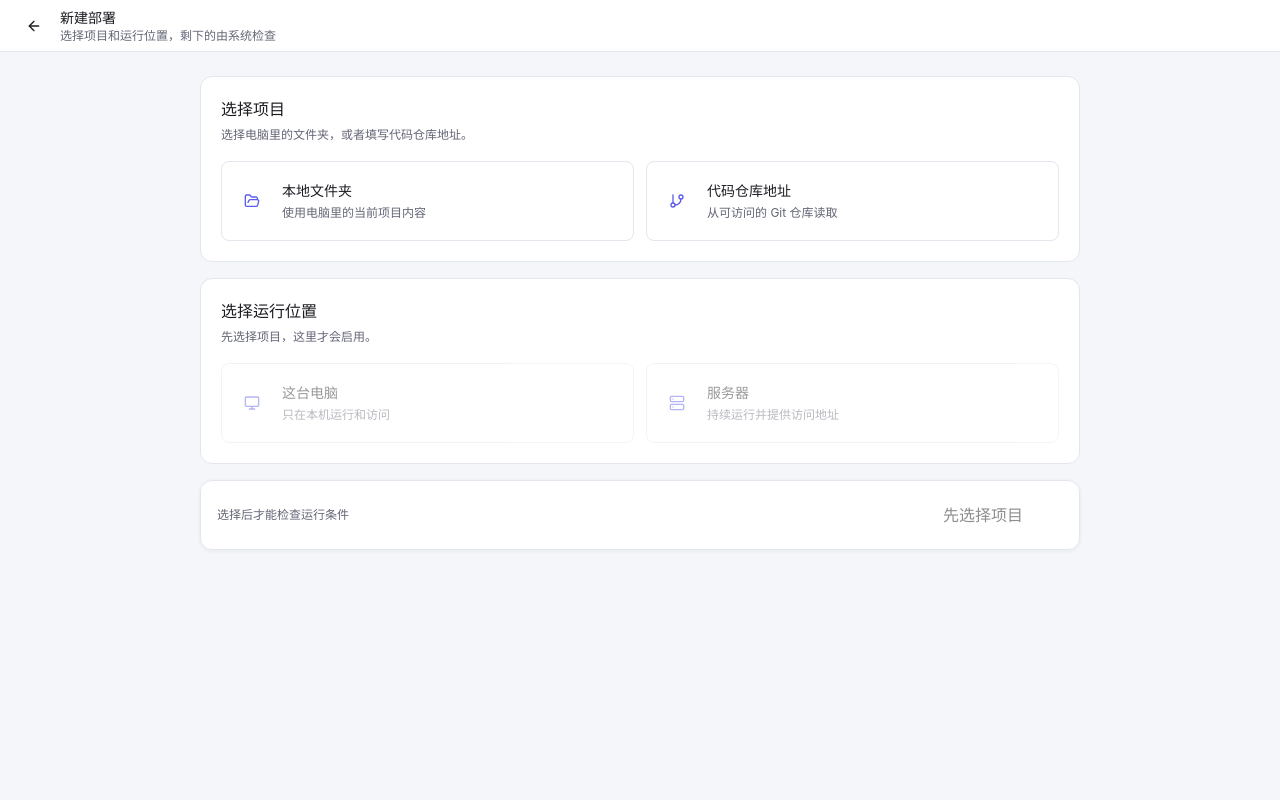
Scenario: DeploymentEditorController › 后端尚未实现的仓库来源如实失败，不伪装为已解析
Step 1. Click the button "代码仓库地址 从可访问的 Git 仓库读取" → (677, 201), box [646,161,1059,241]
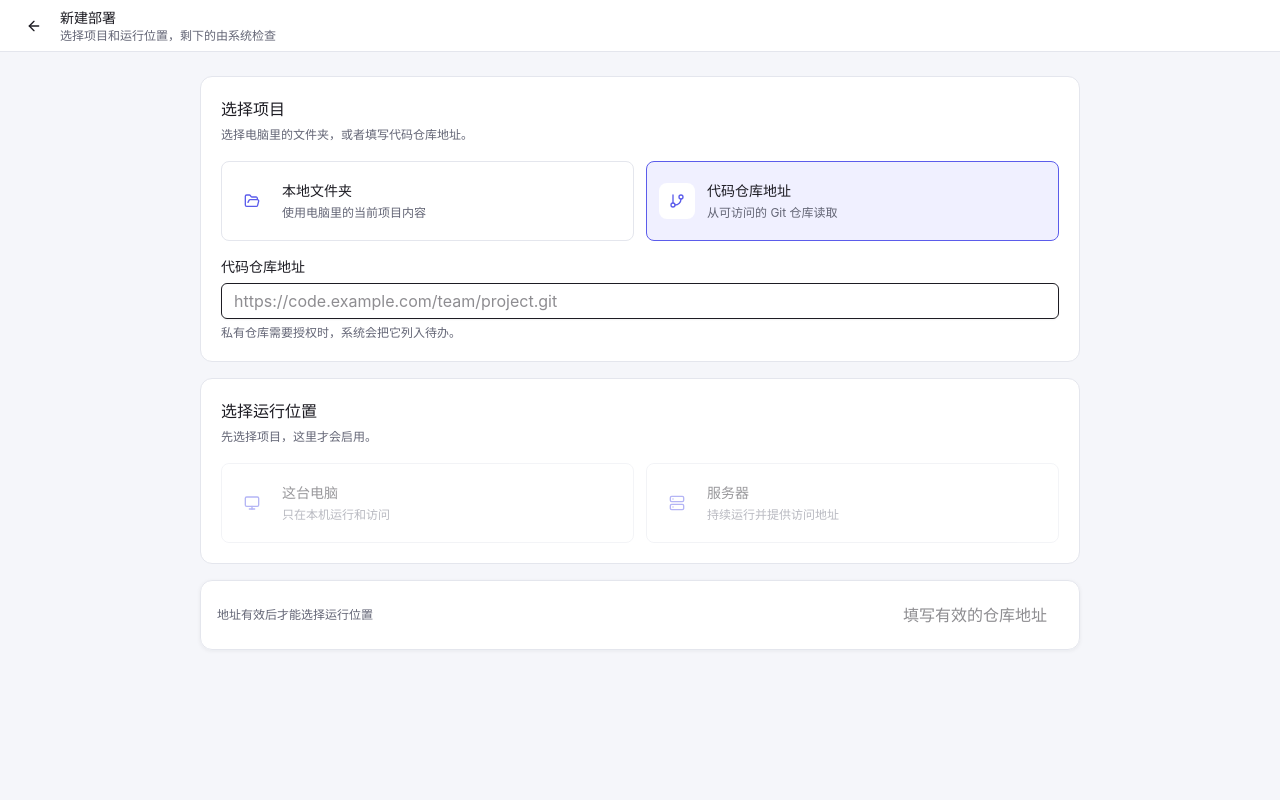
Step 2. Type "https://code.example.com/team/private-app.git" into the field labelled "代码仓库地址" → (640, 301), box [221,283,1059,319]
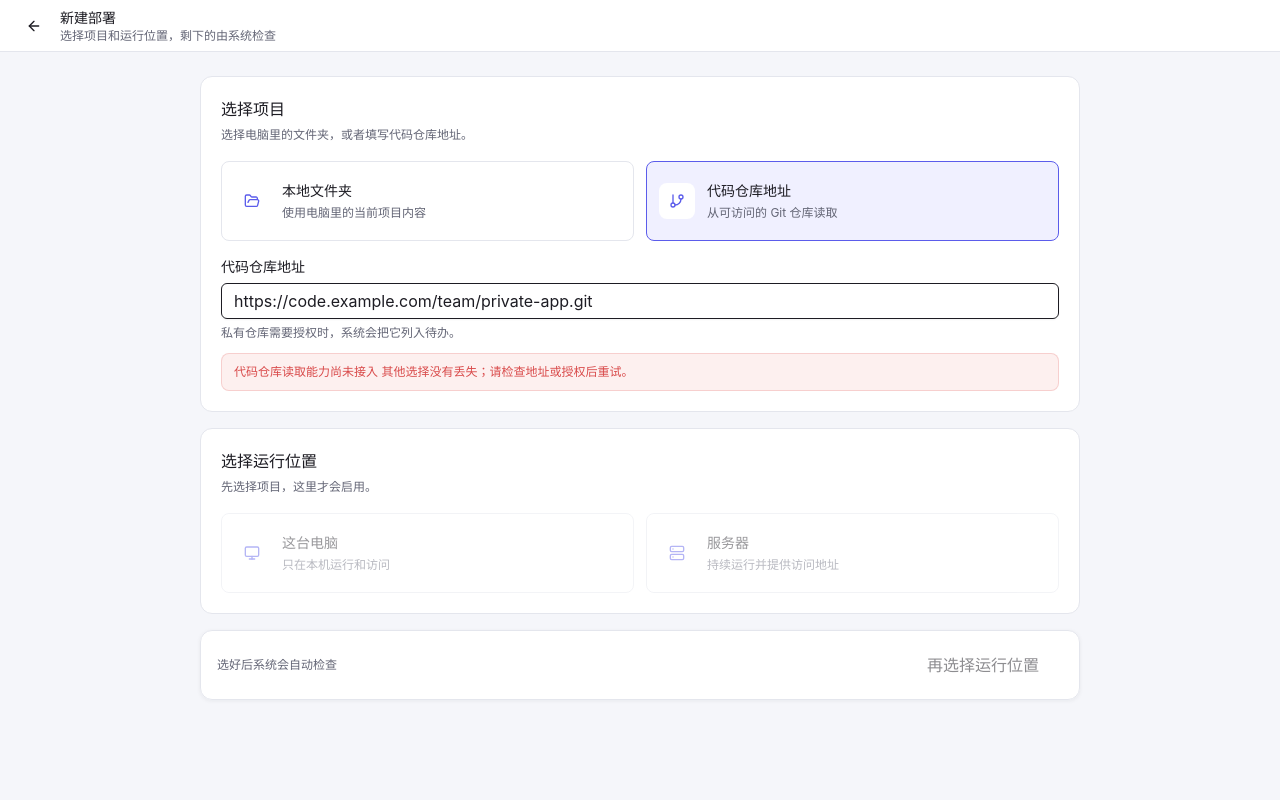
Expected: the button "这台电脑 只在本机运行和访问" is disabled, [221,513,634,593]
Result: the message shows "代码仓库读取能力尚未接入" at [234,364,633,379]
